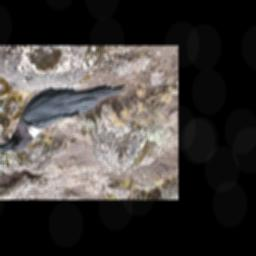Crow: (0, 82, 128, 152)
